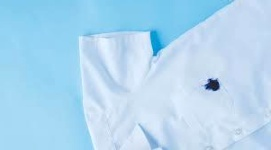ink: (204, 78, 220, 91)
